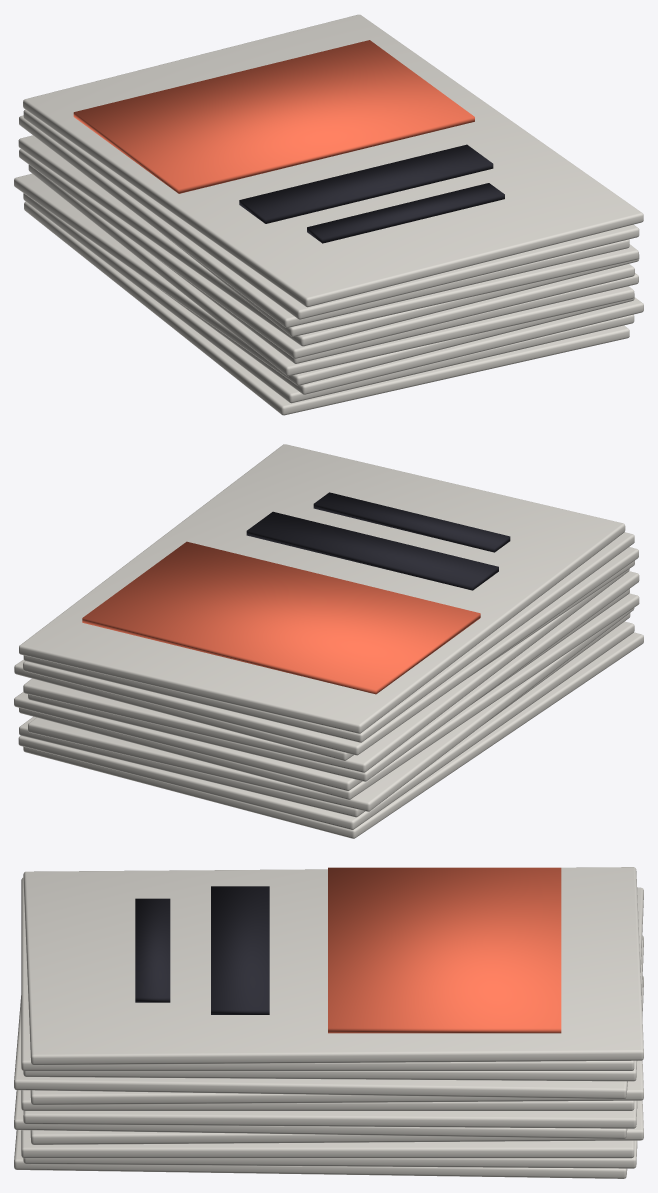
Rendered from prop_flyers.fbx.
The picture shows the model from 3 angles, top to bottom: view 1: azimuth 30°, elevation 25°; view 2: azimuth 150°, elevation 25°; view 3: azimuth 270°, elevation 25°; orthographic projection. The views are drawn at different scales.
Parts seen in each view (by area): view 1: prop_flyers; view 2: prop_flyers; view 3: prop_flyers.
Part boxes in pixels (x1,y1,x2,y2): prop_flyers: (14, 14, 643, 415); prop_flyers: (14, 444, 643, 838); prop_flyers: (14, 867, 643, 1178).
Bounding box in the file's own units: 0.1612 × 0.051 × 0.2158.
